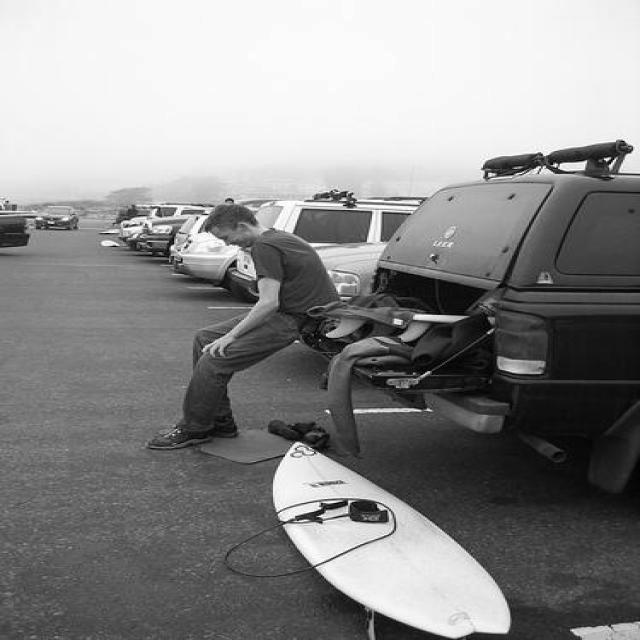vehicle: (300, 138, 640, 496), (326, 142, 640, 494), (232, 201, 414, 297), (231, 198, 428, 286), (161, 204, 267, 292), (137, 198, 282, 256), (169, 213, 261, 303), (34, 205, 80, 230), (2, 215, 32, 249), (0, 215, 30, 248)
